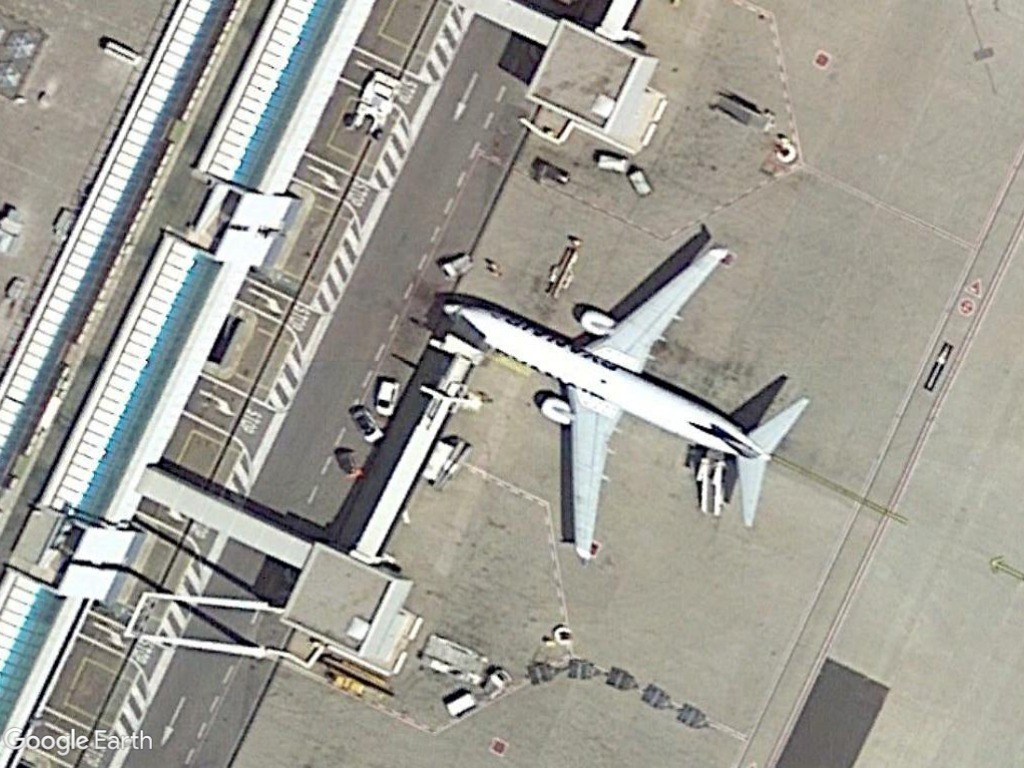airliner: (437, 236, 814, 569)
other: (346, 402, 384, 446)
pushbacktruck: (348, 64, 405, 143)
van: (372, 376, 401, 416)
